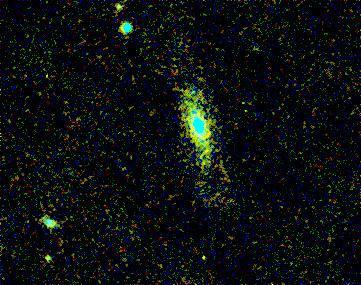star: (33, 242, 63, 272)
